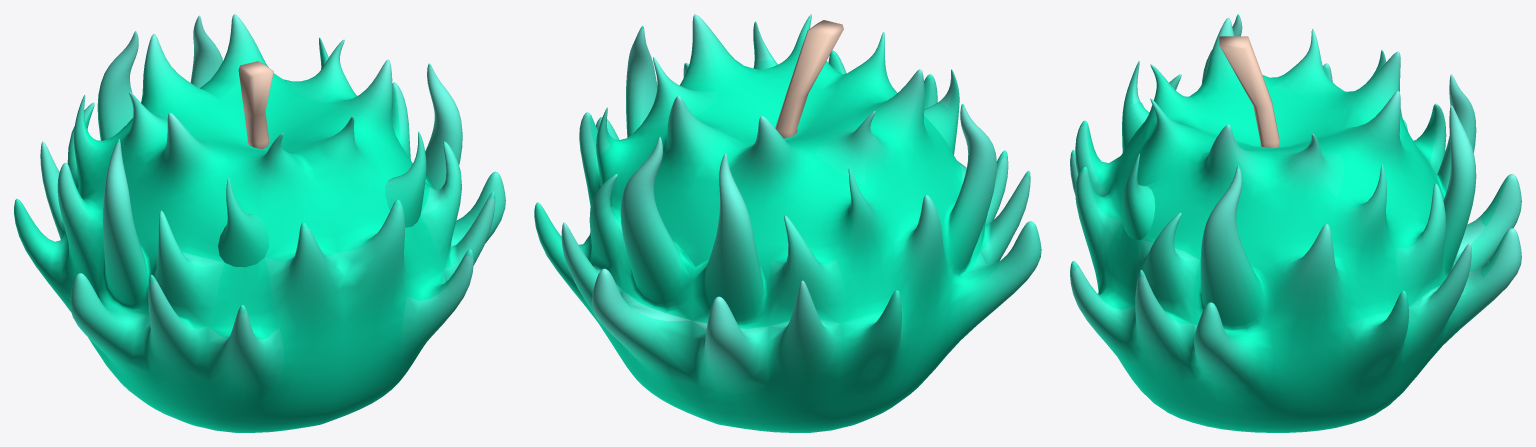
Rendered from apple_feu_follet.fbx.
3 renders of one model, left to right at view 1: azimuth 30°, elevation 25°; view 2: azimuth 150°, elevation 25°; view 3: azimuth 270°, elevation 25°, orthographic. The views are drawn at different scales.
Visible parts, largest first — view 1: apple_standart, apple_standart.001; view 2: apple_standart, apple_standart.001; view 3: apple_standart, apple_standart.001.
Boxes of the visible parts, box(x1,y1,x2,y2) form: apple_standart: box(14, 14, 505, 432); apple_standart.001: box(238, 61, 273, 149); apple_standart: box(534, 14, 1041, 432); apple_standart.001: box(775, 20, 843, 138); apple_standart: box(1070, 14, 1521, 432); apple_standart.001: box(1219, 36, 1279, 148).
Bounding box in the file's own units: 79.39 × 59.47 × 71.84.
